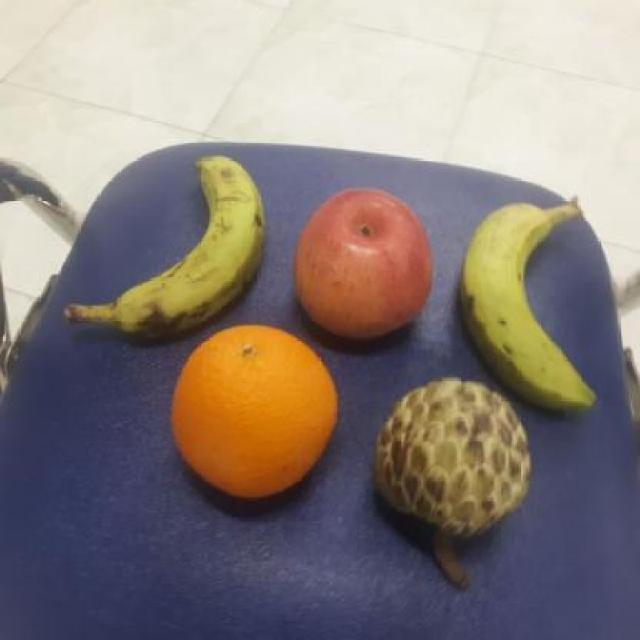apple: (290, 185, 439, 344)
banana: (458, 195, 602, 413), (110, 154, 276, 343)
oren: (168, 326, 340, 503)
sugar apple: (367, 376, 536, 538)
